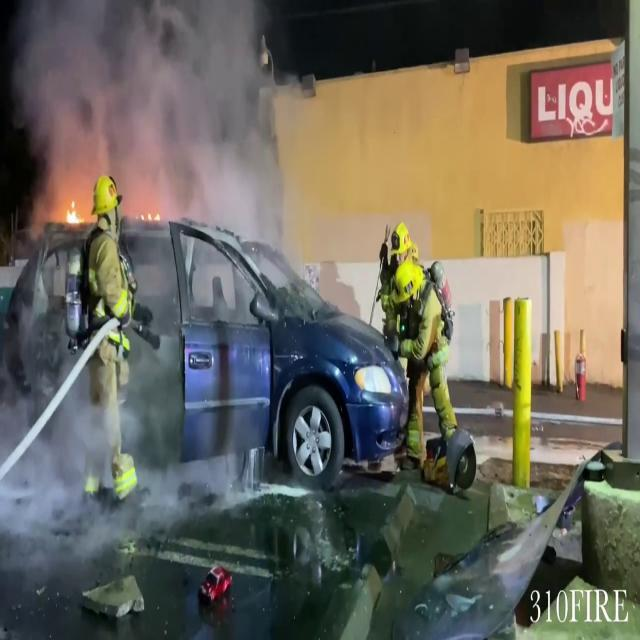Smoke: (2, 0, 296, 235)
